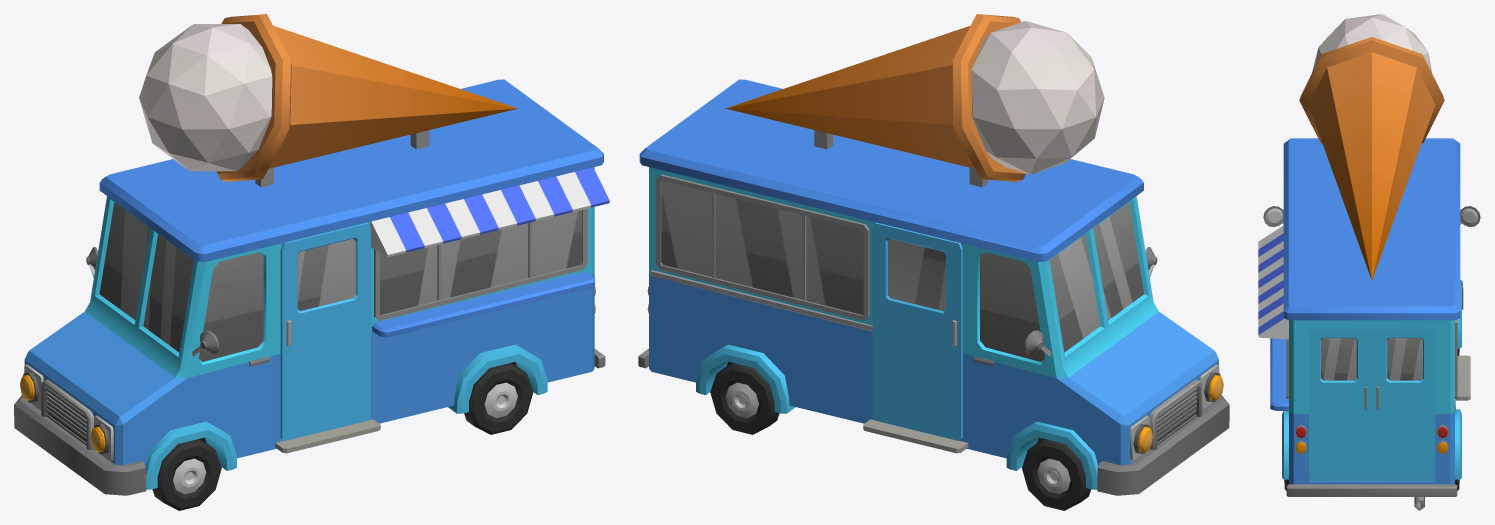
Rendered from IceTruck_1_F.fbx.
3 renders of one model, left to right at view 1: azimuth 30°, elevation 25°; view 2: azimuth 150°, elevation 25°; view 3: azimuth 270°, elevation 25°, orthographic. The views are drawn at different scales.
Parts seen in each view (by area): view 1: IceTruck_1_F, RL, FL; view 2: IceTruck_1_F, RR, FR; view 3: IceTruck_1_F.
Part boxes in pixels (<box>): IceTruck_1_F: <box>14,14,609,495</box>; RL: <box>464,363,533,434</box>; FL: <box>152,439,221,510</box>; IceTruck_1_F: <box>638,14,1229,495</box>; RR: <box>710,363,779,434</box>; FR: <box>1022,439,1090,510</box>; IceTruck_1_F: <box>1258,14,1480,510</box>.
Bounding box in the file's own units: 4.16 × 3.38 × 1.84.
